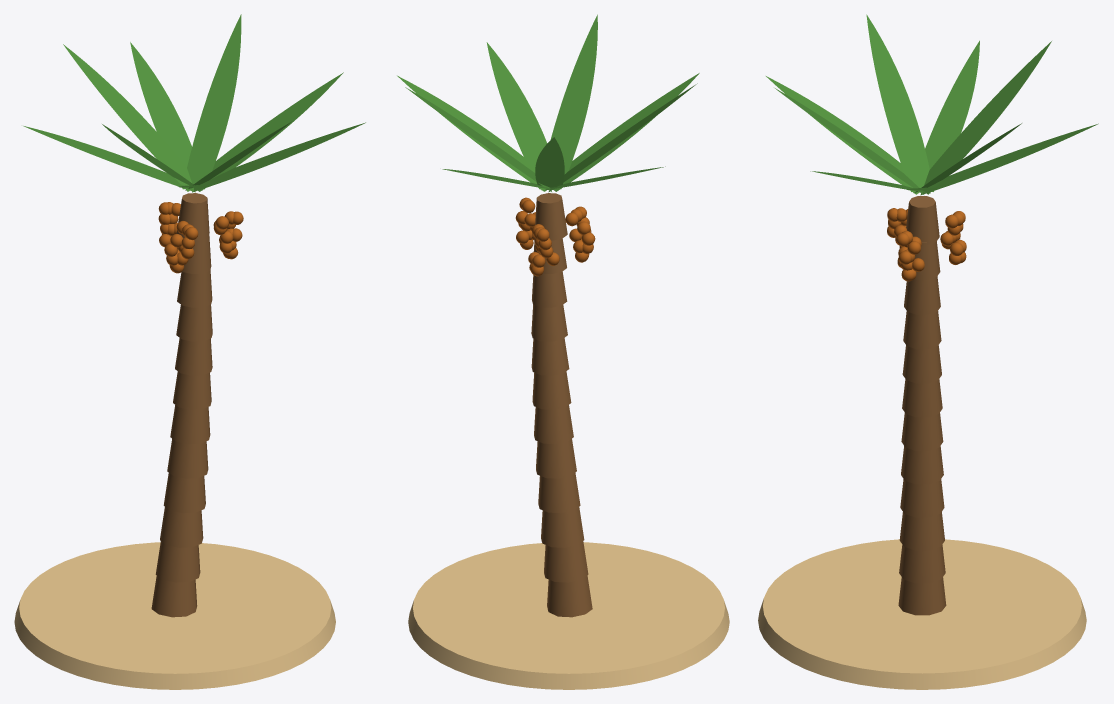
The model's file is palm.glb.
3 views of the same model, side by side, from view 1: azimuth 30°, elevation 25°; view 2: azimuth 150°, elevation 25°; view 3: azimuth 270°, elevation 25° (orthographic). The views are drawn at different scales.
Parts seen in each view (by area): view 1: ground, trunk, fronds, dates; view 2: ground, trunk, fronds, dates; view 3: ground, trunk, fronds, dates.
Boxes of the visible parts, left/top/right/bottom form: ground: left=14, top=542, right=335, bottom=689; trunk: left=151, top=193, right=212, bottom=617; fronds: left=23, top=14, right=365, bottom=192; dates: left=158, top=202, right=243, bottom=273; ground: left=408, top=542, right=729, bottom=689; trunk: left=531, top=193, right=592, bottom=617; fronds: left=397, top=14, right=699, bottom=192; dates: left=515, top=197, right=595, bottom=276; ground: left=758, top=539, right=1086, bottom=689; trunk: left=898, top=196, right=946, bottom=615; fronds: left=766, top=14, right=1098, bottom=195; dates: left=887, top=208, right=966, bottom=281.
Size of the model in its own units: 1.83 by 3.07 by 1.71.
